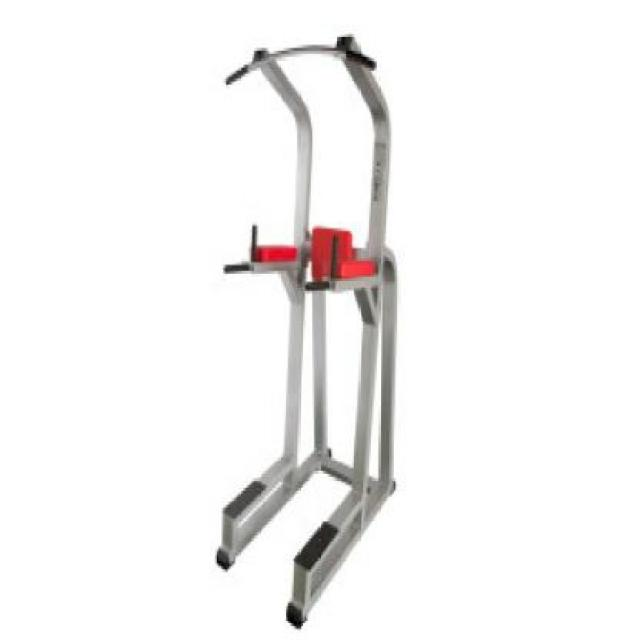chinning dipping: (219, 32, 403, 628)
